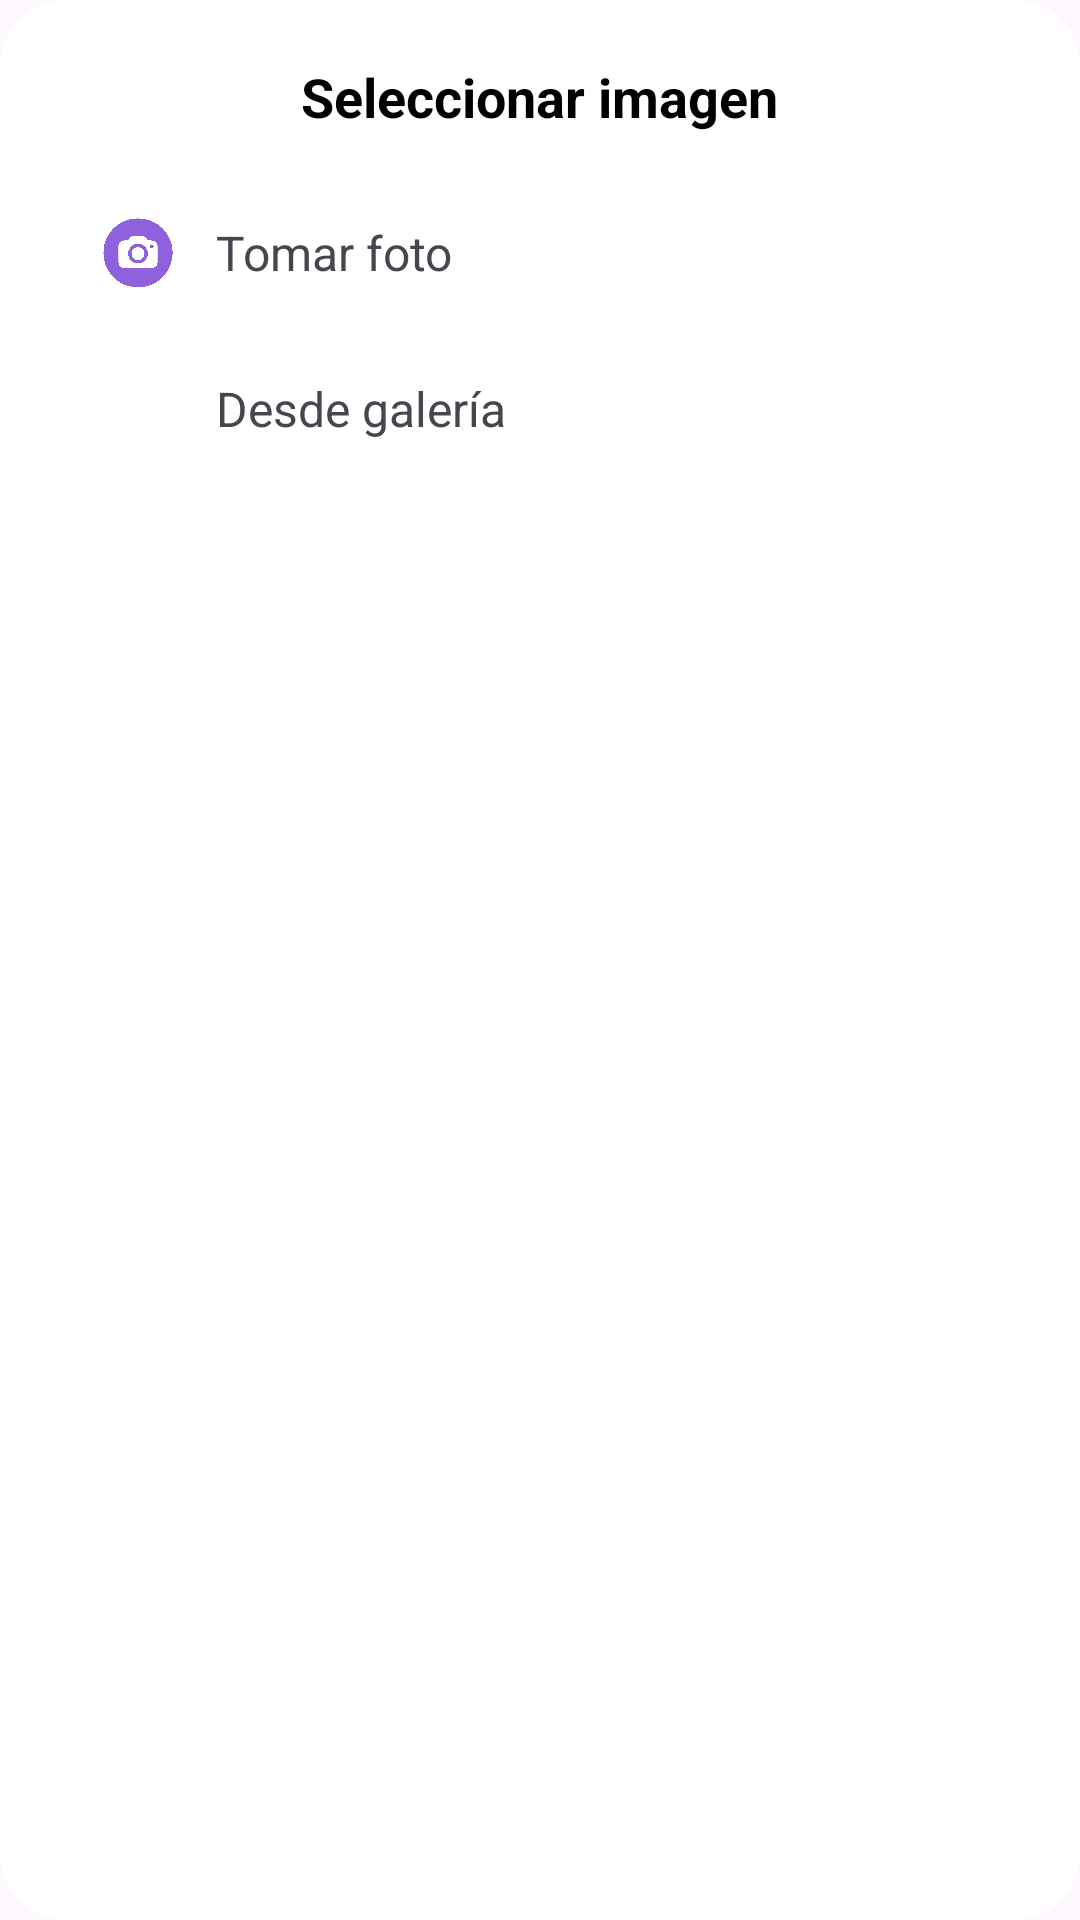

Where to tap for icons on this 1080×1920 app screen, as (x=x, y=y):
camera: (x=138, y=252)
